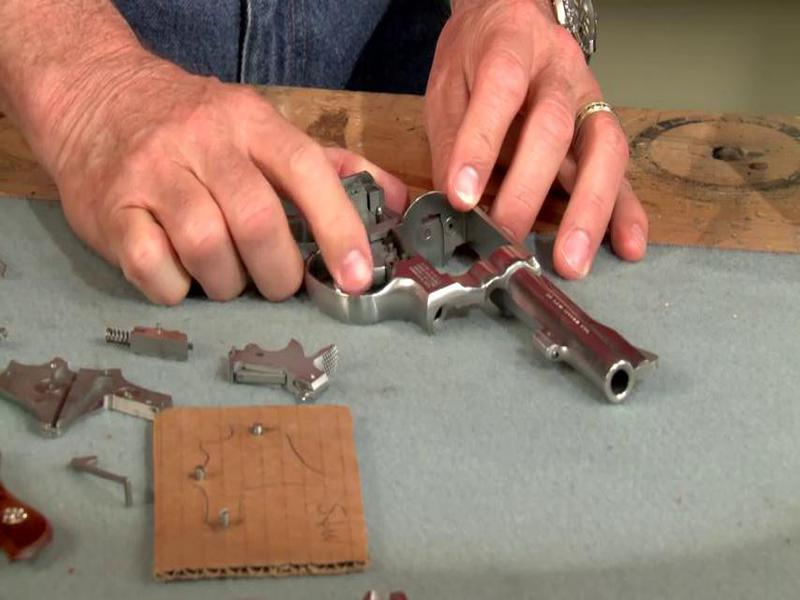Revolver: (251, 127, 653, 421)
